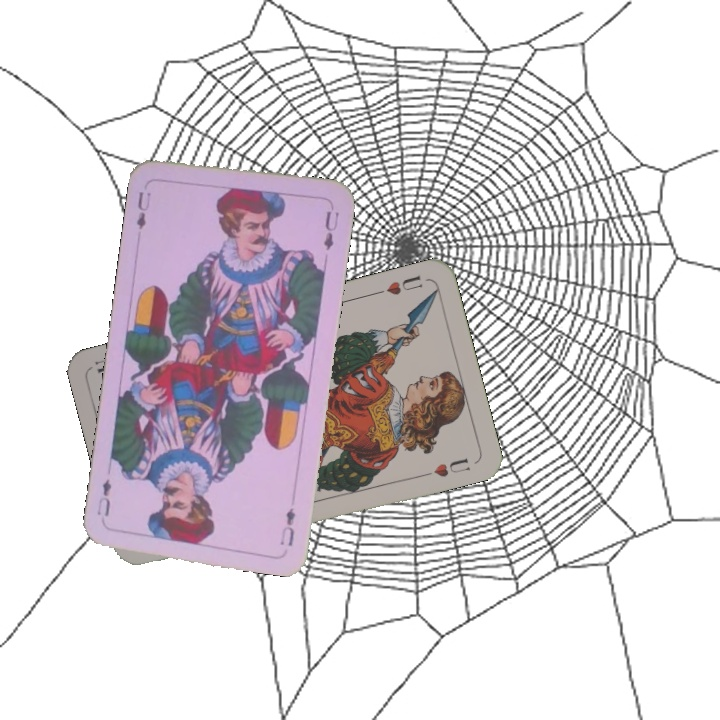EU: (275, 503, 298, 549), (132, 187, 154, 232)
HU: (371, 271, 426, 298)
